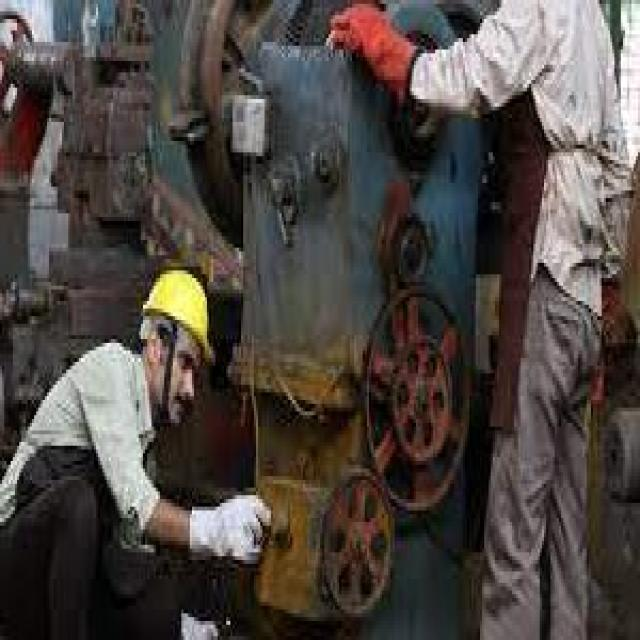Reflective-Jacket: (0, 332, 160, 548)
Safety-Helmet: (132, 252, 228, 377)
